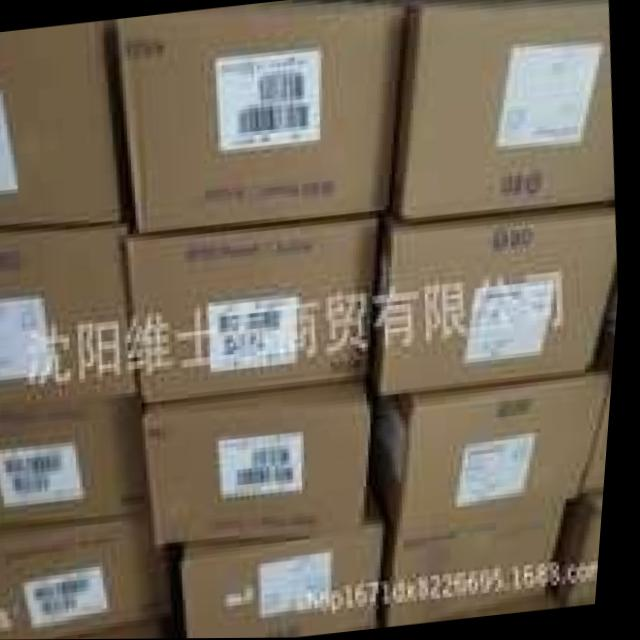box: (115, 1, 404, 233), (393, 0, 618, 219), (128, 214, 384, 402), (374, 204, 621, 396), (148, 379, 376, 545), (381, 371, 614, 530), (190, 498, 389, 639), (0, 216, 144, 408), (0, 20, 121, 226), (0, 514, 181, 640), (398, 504, 570, 627), (0, 399, 158, 528), (560, 491, 611, 608), (588, 378, 618, 494)
